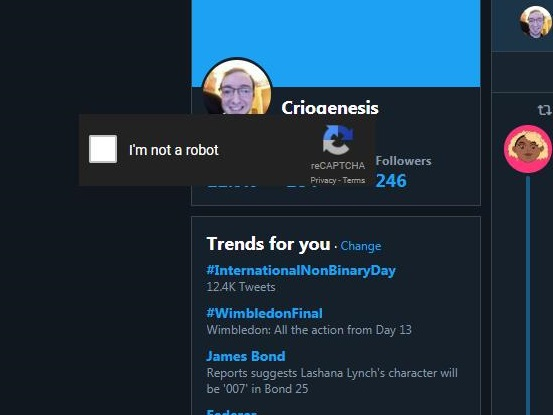captcha: (88, 134, 223, 164)
